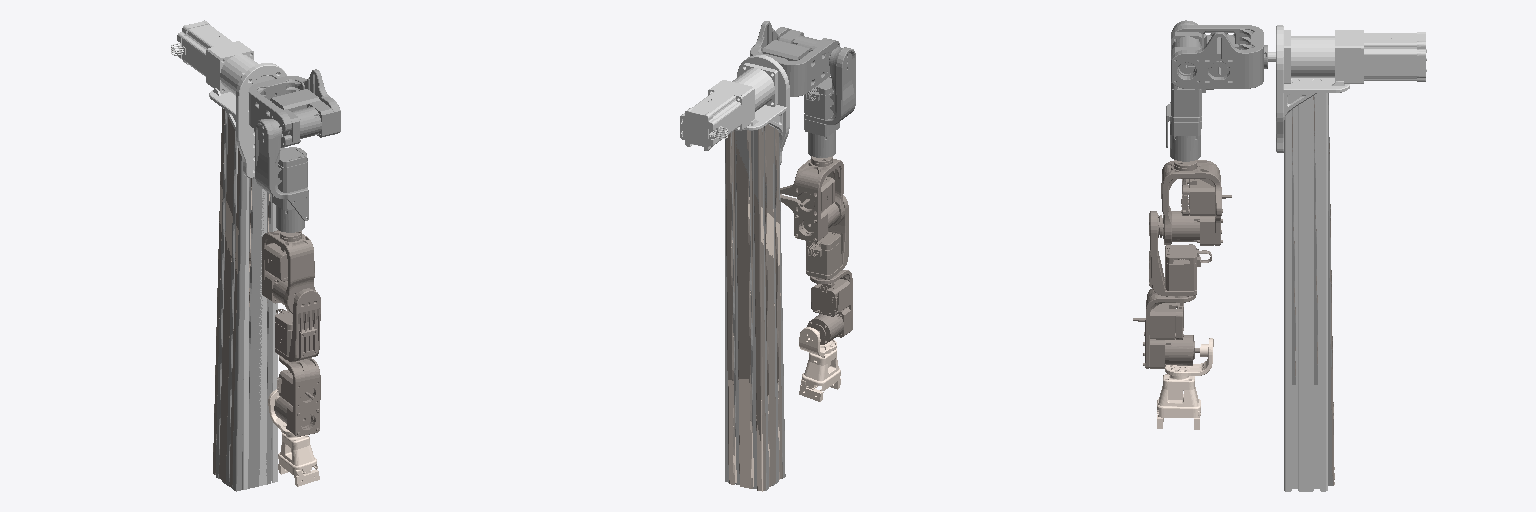
URDF robot description (ArmSync URDF):
<?xml version="1.0" encoding="utf-8"?>
<!-- This URDF was automatically created by SolidWorks to URDF Exporter! Originally created by Stephen Brawner (brawner@gmail.com) 
     Commit Version: 1.6.0-4-g7f85cfe  Build Version: 1.6.7995.38578
     For more information, please see http://wiki.ros.org/sw_urdf_exporter -->
<robot
  name="ArmSync URDF">
  <link
    name="base">
    <inertial>
      <origin
        xyz="0.029997 0.48059 0.0081821"
        rpy="0 0 0" />
      <mass
        value="4" />
      <inertia
        ixx="0.018154"
        ixy="2.5231E-08"
        ixz="1.8082E-07"
        iyy="0.0012264"
        iyz="4.0237E-05"
        izz="0.017859" />
    </inertial>
    <visual>
      <origin
        xyz="0 0 0"
        rpy="0 0 0" />
      <geometry>
        <mesh
          filename="package://ArmSync URDF/meshes/base.STL" />
      </geometry>
      <material
        name="">
        <color
          rgba="0.89412 0.89412 0.89412 1" />
      </material>
    </visual>
    <collision>
      <origin
        xyz="0 0 0"
        rpy="0 0 0" />
      <geometry>
        <mesh
          filename="package://ArmSync URDF/meshes/base.STL" />
      </geometry>
    </collision>
  </link>
  <link
    name="Shoulder">
    <inertial>
      <origin
        xyz="-0.067387 0.0007846 -0.00046848"
        rpy="0 0 0" />
      <mass
        value="1.139" />
      <inertia
        ixx="0.0004569"
        ixy="1.7072E-06"
        ixz="-3.1308E-06"
        iyy="0.00042211"
        iyz="9.4418E-06"
        izz="0.0006882" />
    </inertial>
    <visual>
      <origin
        xyz="0 0 0"
        rpy="0 0 0" />
      <geometry>
        <mesh
          filename="package://ArmSync URDF/meshes/Shoulder.STL" />
      </geometry>
      <material
        name="">
        <color
          rgba="0.69804 0.69804 0.69804 1" />
      </material>
    </visual>
    <collision>
      <origin
        xyz="0 0 0"
        rpy="0 0 0" />
      <geometry>
        <mesh
          filename="package://ArmSync URDF/meshes/Shoulder.STL" />
      </geometry>
    </collision>
  </link>
  <joint
    name="Shoulder"
    type="continuous">
    <origin
      xyz="0.03 -0.0817 0.6345"
      rpy="3.1416 0 1.5708" />
    <parent
      link="base" />
    <child
      link="Shoulder" />
    <axis
      xyz="1 0 0" />
    <limit
      lower="-1.5708"
      upper="1.5708"
      effort="100"
      velocity="1" />
  </joint>
  <link
    name="UpperArm_Up">
    <inertial>
      <origin
        xyz="-0.038351 -0.080037 0.00036"
        rpy="0 0 0" />
      <mass
        value="0.726" />
      <inertia
        ixx="0.00021816"
        ixy="3.182E-05"
        ixz="-3.9569E-06"
        iyy="8.2751E-05"
        iyz="7.2168E-06"
        izz="0.00022442" />
    </inertial>
    <visual>
      <origin
        xyz="0 0 0"
        rpy="0 0 0" />
      <geometry>
        <mesh
          filename="package://ArmSync URDF/meshes/UpperArm_Up.STL" />
      </geometry>
      <material
        name="">
        <color
          rgba="0.69804 0.69804 0.69804 1" />
      </material>
    </visual>
    <collision>
      <origin
        xyz="0 0 0"
        rpy="0 0 0" />
      <geometry>
        <mesh
          filename="package://ArmSync URDF/meshes/UpperArm_Up.STL" />
      </geometry>
    </collision>
  </link>
  <joint
    name="UpperArm_Up"
    type="continuous">
    <origin
      xyz="-0.1093 -0.0024984 0"
      rpy="-1.5708 0 1.5708" />
    <parent
      link="Shoulder" />
    <child
      link="UpperArm_Up" />
    <axis
      xyz="1 0 0" />
    <limit
      lower="-0.5236"
      upper="0.5236"
      effort="100"
      velocity="1" />
  </joint>
  <link
    name="UpperArm_Down">
    <inertial>
      <origin
        xyz="-0.010417 -0.063997 0.005895"
        rpy="0 0 0" />
      <mass
        value="0.81" />
      <inertia
        ixx="0.00019894"
        ixy="1.1973E-06"
        ixz="3.9696E-05"
        iyy="0.00018245"
        iyz="-1.3679E-06"
        izz="0.00025006" />
    </inertial>
    <visual>
      <origin
        xyz="0 0 0"
        rpy="0 0 0" />
      <geometry>
        <mesh
          filename="package://ArmSync URDF/meshes/UpperArm_Down.STL" />
      </geometry>
      <material
        name="">
        <color
          rgba="0.67059 0.63922 0.61961 1" />
      </material>
    </visual>
    <collision>
      <origin
        xyz="0 0 0"
        rpy="0 0 0" />
      <geometry>
        <mesh
          filename="package://ArmSync URDF/meshes/UpperArm_Down.STL" />
      </geometry>
    </collision>
  </link>
  <joint
    name="UpperArm_Down"
    type="continuous">
    <origin
      xyz="-0.026302 -0.16841 0"
      rpy="-3.1416 -1.0387 3.1416" />
    <parent
      link="UpperArm_Up" />
    <child
      link="UpperArm_Down" />
    <axis
      xyz="0 1 0" />
    <limit
      lower="-3.1416"
      upper="3.1416"
      effort="100"
      velocity="1" />
  </joint>
  <link
    name="ForeArm_Up">
    <inertial>
      <origin
        xyz="-0.019407 -0.018604 -0.053696"
        rpy="0 0 0" />
      <mass
        value="0.372" />
      <inertia
        ixx="0.00010102"
        ixy="6.3774E-06"
        ixz="-1.9645E-05"
        iyy="0.00010426"
        iyz="1.7652E-05"
        izz="5.3752E-05" />
    </inertial>
    <visual>
      <origin
        xyz="0 0 0"
        rpy="0 0 0" />
      <geometry>
        <mesh
          filename="package://ArmSync URDF/meshes/ForeArm_Up.STL" />
      </geometry>
      <material
        name="">
        <color
          rgba="0.67059 0.63922 0.61961 1" />
      </material>
    </visual>
    <collision>
      <origin
        xyz="0 0 0"
        rpy="0 0 0" />
      <geometry>
        <mesh
          filename="package://ArmSync URDF/meshes/ForeArm_Up.STL" />
      </geometry>
    </collision>
  </link>
  <joint
    name="ForeArm_Up"
    type="continuous">
    <origin
      xyz="0 -0.096088 0"
      rpy="1.1144 0.90407 2.5831" />
    <parent
      link="UpperArm_Down" />
    <child
      link="ForeArm_Up" />
    <axis
      xyz="0 1 0" />
    <limit
      lower="-1.047"
      upper="1.047"
      effort="100"
      velocity="1" />
  </joint>
  <link
    name="ForeArm_Down">
    <inertial>
      <origin
        xyz="0.018432 0.065395 0.0029778"
        rpy="0 0 0" />
      <mass
        value="0.6" />
      <inertia
        ixx="9.2915E-05"
        ixy="-1.4642E-05"
        ixz="-2.9637E-06"
        iyy="7.1014E-05"
        iyz="-2.3594E-06"
        izz="0.00011072" />
    </inertial>
    <visual>
      <origin
        xyz="0 0 0"
        rpy="0 0 0" />
      <geometry>
        <mesh
          filename="package://ArmSync URDF/meshes/ForeArm_Down.STL" />
      </geometry>
      <material
        name="">
        <color
          rgba="0.67059 0.63922 0.61961 1" />
      </material>
    </visual>
    <collision>
      <origin
        xyz="0 0 0"
        rpy="0 0 0" />
      <geometry>
        <mesh
          filename="package://ArmSync URDF/meshes/ForeArm_Down.STL" />
      </geometry>
    </collision>
  </link>
  <joint
    name="ForeArm_Down"
    type="continuous">
    <origin
      xyz="-0.031609 -0.00425 -0.087577"
      rpy="-1.9073 -0.083931 -1.806" />
    <parent
      link="ForeArm_Up" />
    <child
      link="ForeArm_Down" />
    <axis
      xyz="0 1 0" />
    <limit
      lower="-3.1416"
      upper="3.1416"
      effort="100"
      velocity="1" />
  </joint>
  <link
    name="Wrist">
    <inertial>
      <origin
        xyz="0.029441 -0.0051358 -0.050997"
        rpy="0 0 0" />
      <mass
        value="0.11493" />
      <inertia
        ixx="3.6098E-05"
        ixy="-1.5617E-06"
        ixz="-9.489E-07"
        iyy="1.8954E-05"
        iyz="3.9916E-06"
        izz="3.7196E-05" />
    </inertial>
    <visual>
      <origin
        xyz="0 0 0"
        rpy="0 0 0" />
      <geometry>
        <mesh
          filename="package://ArmSync URDF/meshes/Wrist.STL" />
      </geometry>
      <material
        name="">
        <color
          rgba="1 0.94902 0.9098 1" />
      </material>
    </visual>
    <collision>
      <origin
        xyz="0 0 0"
        rpy="0 0 0" />
      <geometry>
        <mesh
          filename="package://ArmSync URDF/meshes/Wrist.STL" />
      </geometry>
    </collision>
  </link>
  <joint
    name="Wrist"
    type="continuous">
    <origin
      xyz="0 0.092393 0"
      rpy="2.8738 0.92369 1.3553" />
    <parent
      link="ForeArm_Down" />
    <child
      link="Wrist" />
    <axis
      xyz="0 1 0" />
    <limit
      lower="-1.047"
      upper="1.047"
      effort="100"
      velocity="1" />
  </joint>
</robot>

--- What the picture shows (computed from the rendered views, not written in the file) ---
Views: 3 orthographic renders of the robot side by side, from view 1: azimuth 30°, elevation 25°; view 2: azimuth 150°, elevation 25°; view 3: azimuth 270°, elevation 25°.
Robot: ArmSync URDF — 7 links, 6 joints (6 continuous); root link base; default pose: all joints at 0.
Visible links, largest first — view 1: Shoulder, base, ForeArm_Down, UpperArm_Up, ForeArm_Up, UpperArm_Down, Wrist; view 2: ForeArm_Down, base, UpperArm_Down, Shoulder, Wrist, UpperArm_Up, ForeArm_Up; view 3: base, Shoulder, UpperArm_Up, UpperArm_Down, ForeArm_Down, ForeArm_Up, Wrist.
Link boxes in pixels (x1,y1,x2,y2): Shoulder: (216,69,340,491); base: (171,20,286,489); ForeArm_Down: (213,199,320,487); UpperArm_Up: (216,119,308,439); ForeArm_Up: (220,108,320,361); UpperArm_Down: (216,174,315,438); Wrist: (219,124,319,486); ForeArm_Down: (726,195,852,490); base: (680,55,789,488); UpperArm_Down: (726,126,844,256); Shoulder: (731,21,839,490); Wrist: (728,197,840,491); UpperArm_Up: (725,47,855,285); ForeArm_Up: (727,124,848,490); base: (1268,25,1426,491); Shoulder: (1171,25,1267,88); UpperArm_Up: (1166,20,1332,485); UpperArm_Down: (1159,143,1330,245); ForeArm_Down: (1133,96,1332,368); ForeArm_Up: (1149,211,1334,485); Wrist: (1157,338,1334,484).
Size in the robot's own frame: 0.1364 by 0.3978 by 0.6913 metres.
Meshes: 7 distinct files referenced, 7 mesh visuals loaded (7 binary STL).
